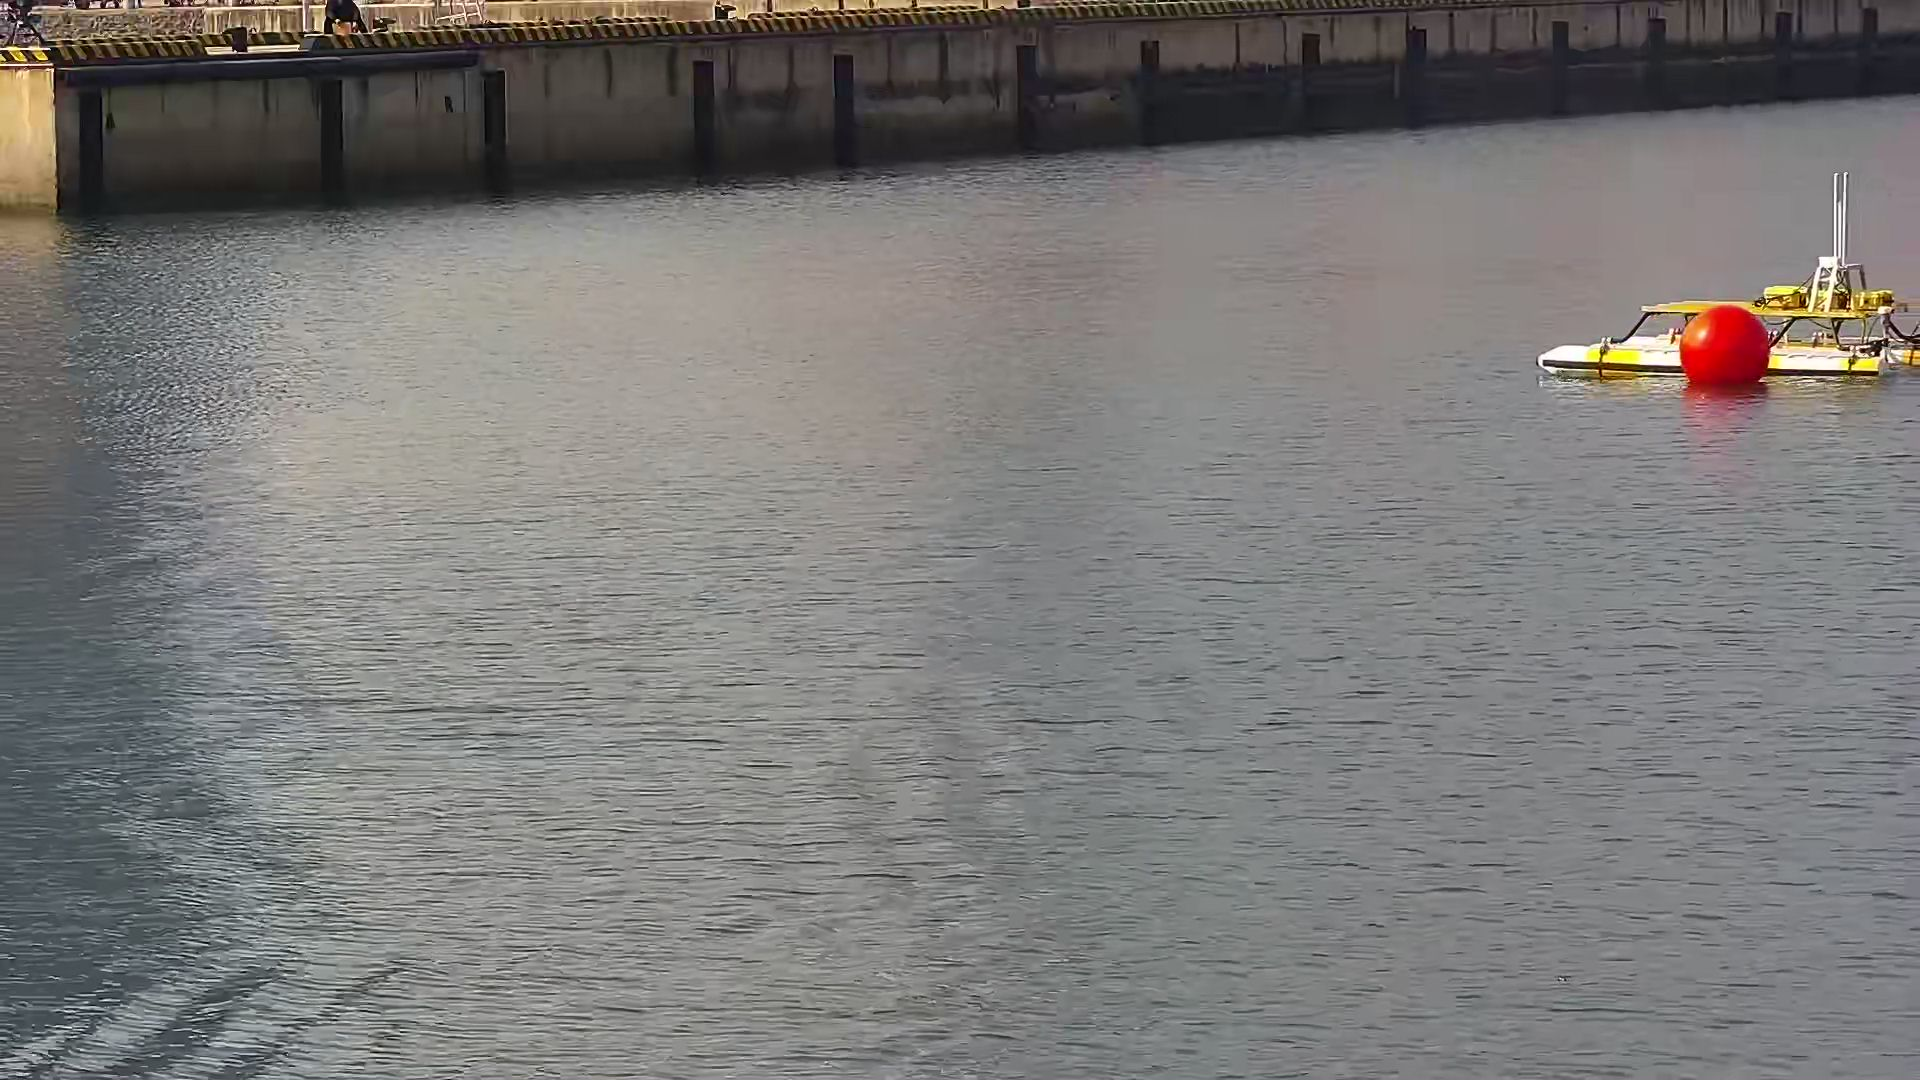ball: (1677, 309, 1767, 385)
boat: (1530, 284, 1920, 377)
